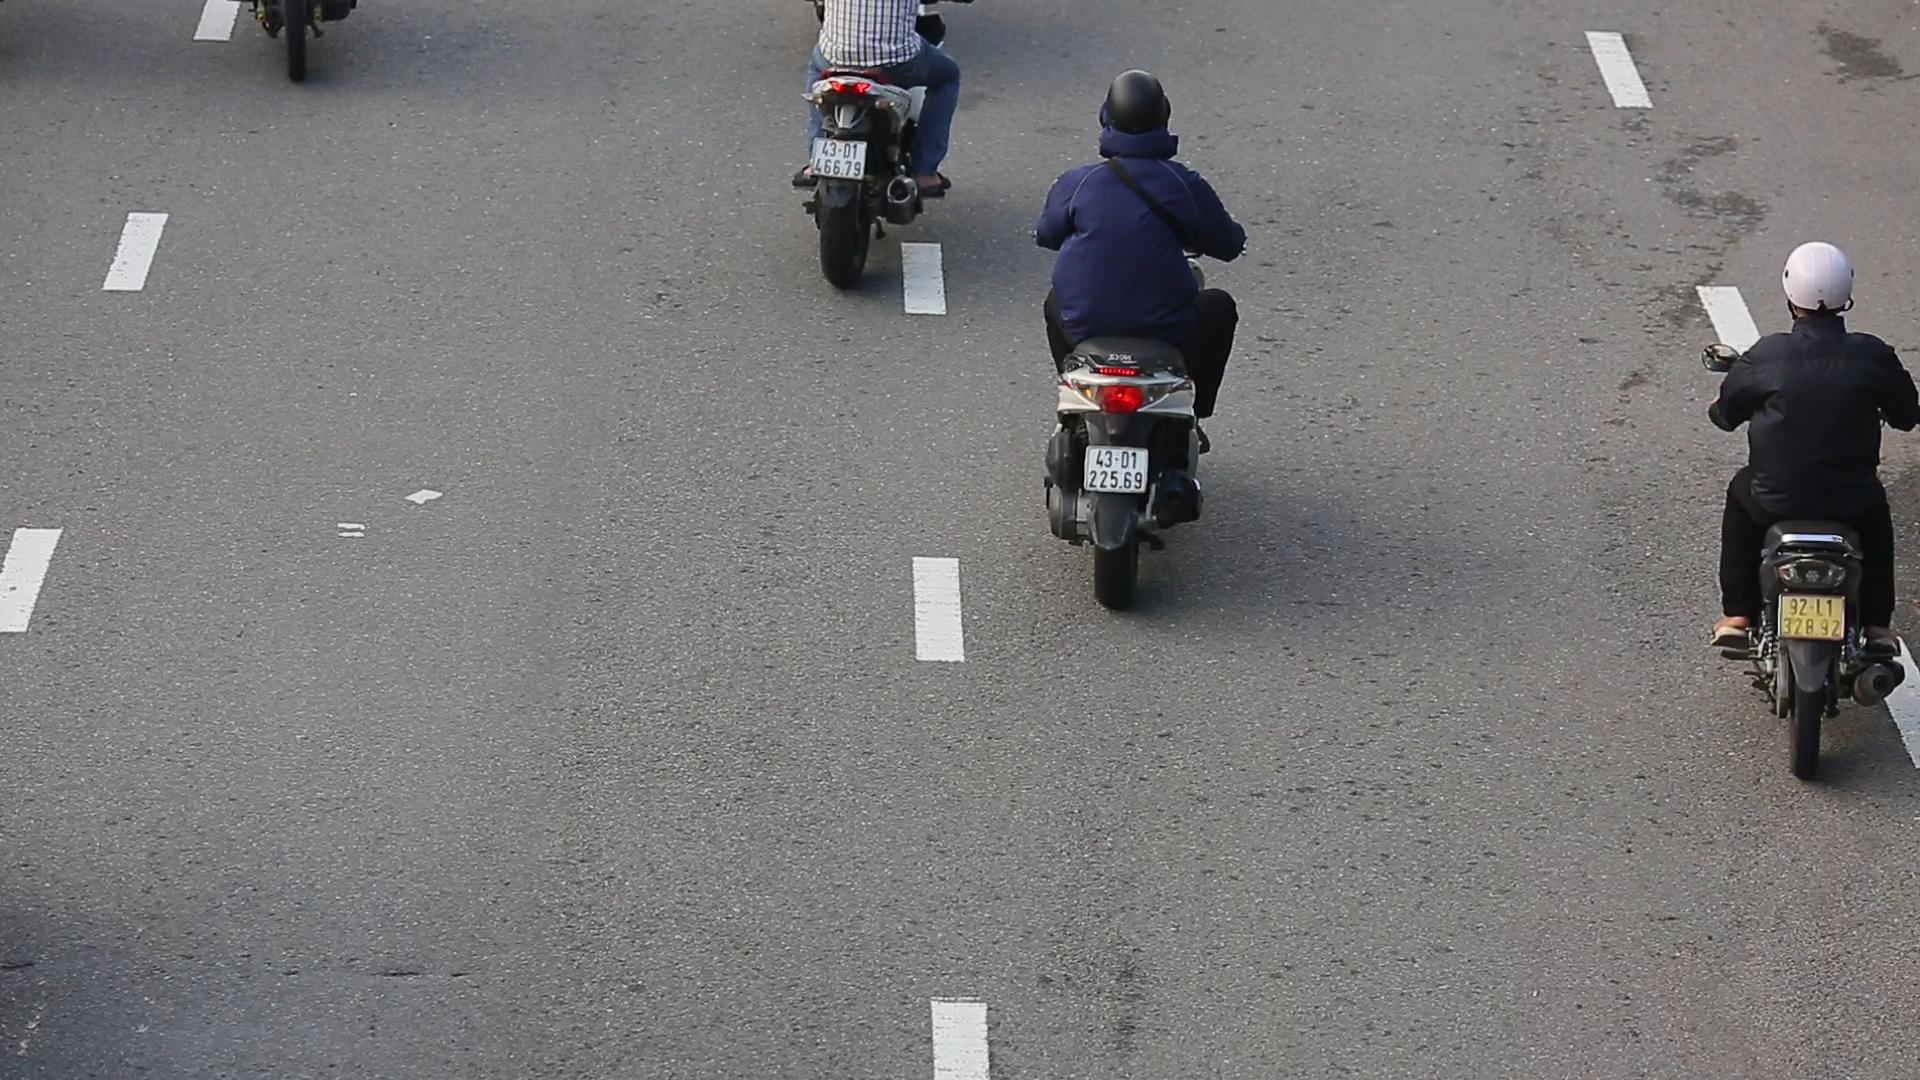motobike: (1026, 61, 1247, 628), (1700, 239, 1920, 794)
